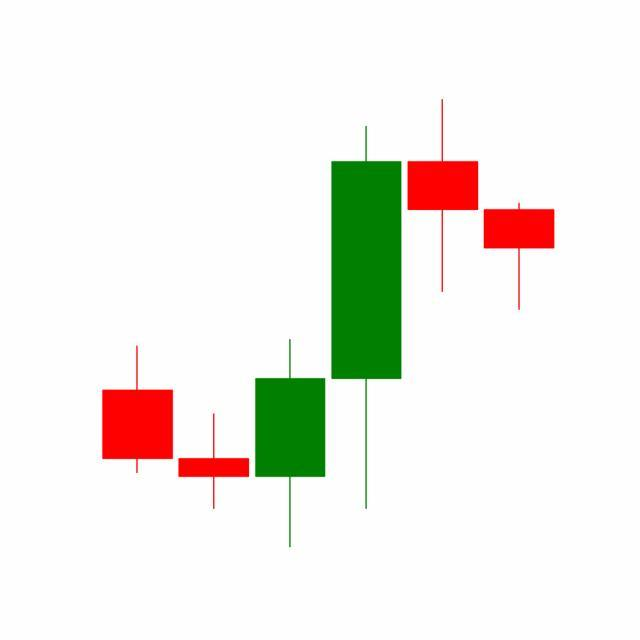Spinning Top: (404, 97, 482, 295)
